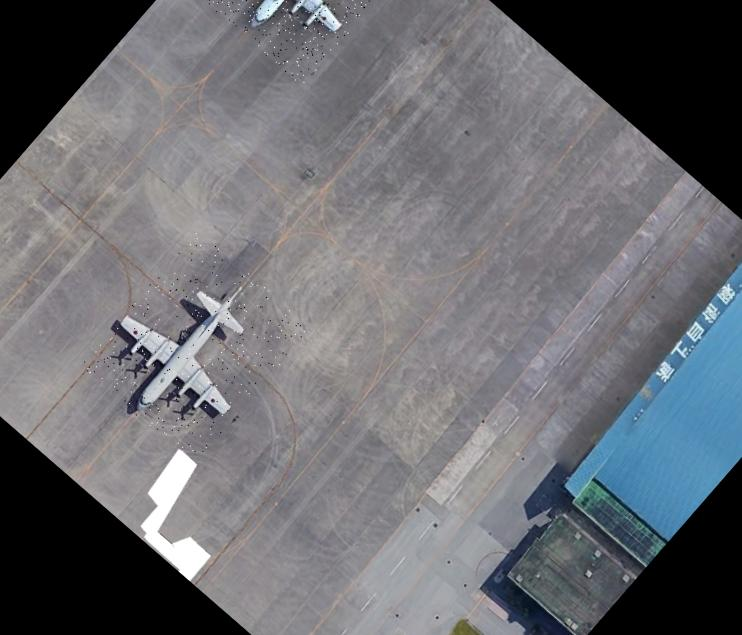A9: (78, 229, 312, 465), (188, 0, 421, 85)
